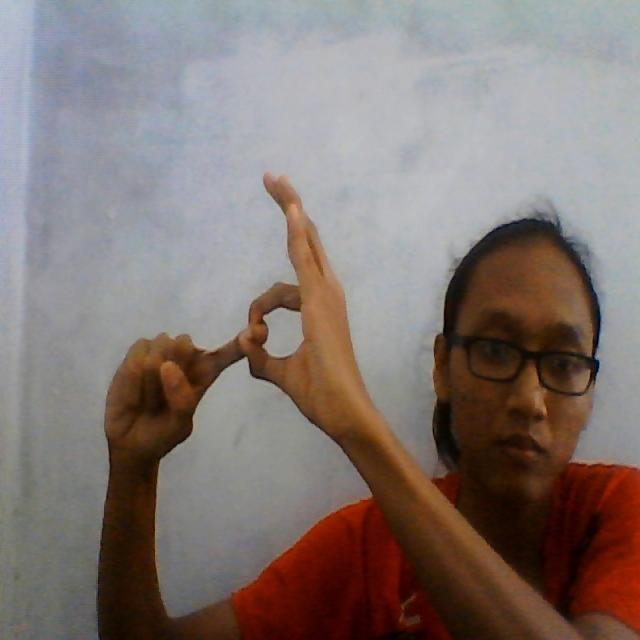Q: (104, 170, 346, 454)
